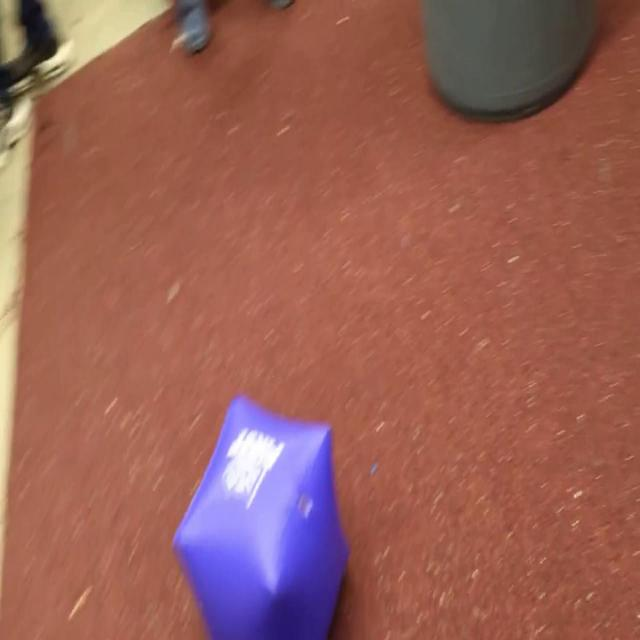frc_cube: (173, 394, 349, 640)
